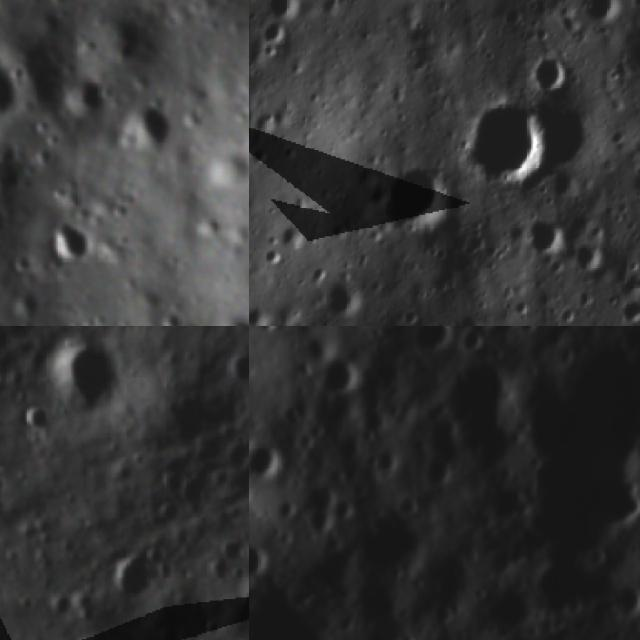crater: (433, 342, 545, 472), (34, 334, 124, 420), (472, 103, 553, 189), (387, 153, 452, 233), (309, 338, 375, 402), (116, 93, 180, 158), (104, 545, 166, 604), (42, 212, 102, 268), (480, 471, 535, 529), (60, 65, 118, 119), (249, 427, 294, 489), (397, 326, 466, 361), (0, 42, 27, 130), (219, 568, 249, 640), (249, 534, 281, 597), (521, 222, 572, 258), (208, 525, 249, 569), (526, 52, 570, 92), (0, 139, 30, 197), (322, 280, 363, 320), (621, 409, 640, 476), (324, 212, 358, 246), (20, 402, 48, 441), (572, 240, 602, 276), (225, 342, 249, 386), (584, 0, 618, 29), (276, 222, 311, 250), (391, 623, 443, 640), (265, 0, 302, 20), (256, 23, 288, 45), (249, 298, 272, 324), (209, 312, 249, 326), (508, 298, 536, 318), (69, 632, 111, 640)
